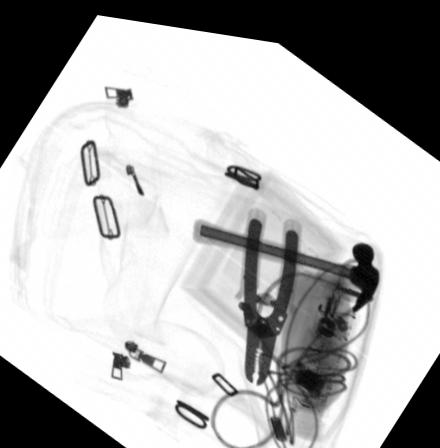Hammer: (191, 210, 378, 300)
Pliers: (240, 199, 301, 377)
